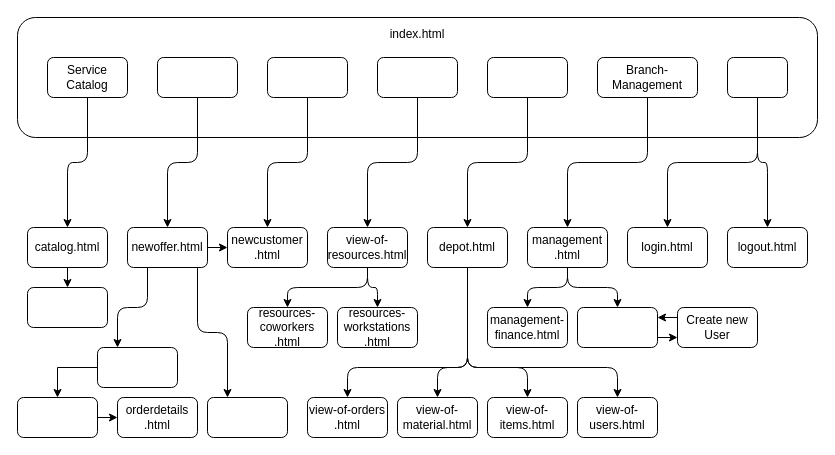
Image size: 835x455. Some labels were removed from this diagram. Here are the shapes that lost their labels. From the top down, the centre of each, then its label:
At (x=197, y=77): "New Offer".
At (x=307, y=77): "New Customer".
At (x=417, y=77): "Resources".
At (x=527, y=77): "Depot".
At (x=757, y=77): "Login/ Logout".
At (x=67, y=307): "service-xy .html".
At (x=617, y=327): "management-users.html".
At (x=137, y=367): "Bezahlen".
At (x=57, y=417): "neworder .html".
At (x=247, y=417): "newitem .html".
